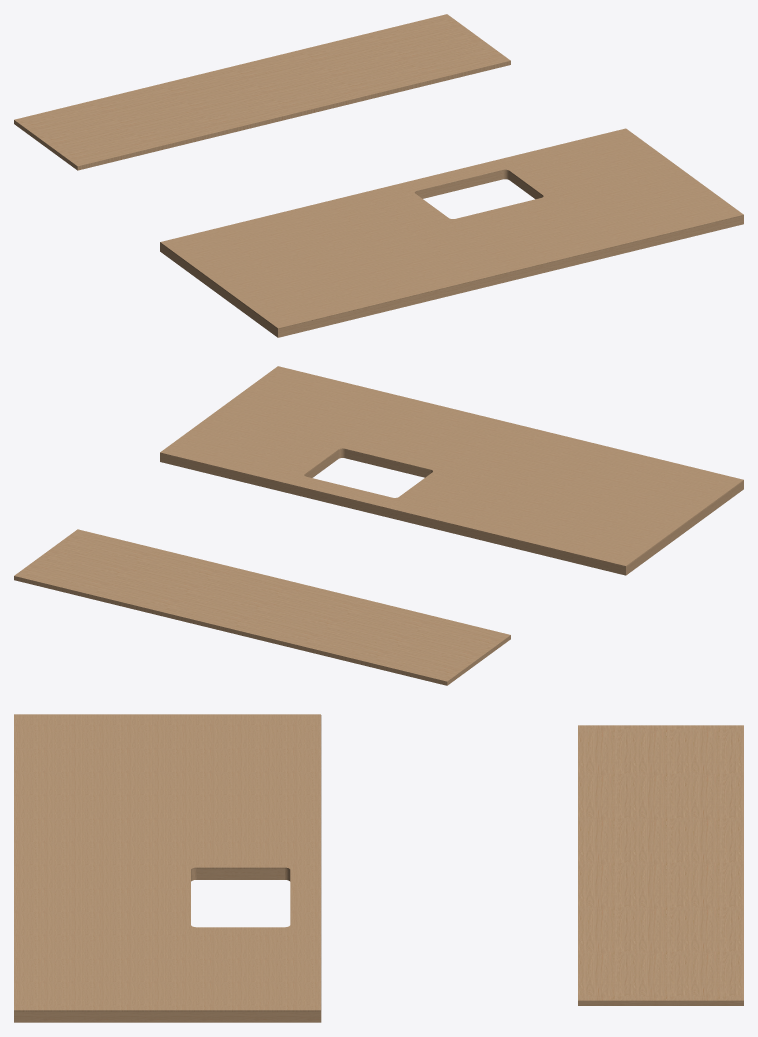
Rendered from CounterTopWood.glb.
The picture shows the model from 3 angles, top to bottom: view 1: azimuth 30°, elevation 25°; view 2: azimuth 150°, elevation 25°; view 3: azimuth 270°, elevation 25°; orthographic projection. The views are drawn at different scales.
Visible parts, largest first — view 1: Counter Wood; view 2: Counter Wood; view 3: Counter Wood.
Boxes of the visible parts, <box> form: Counter Wood: <box>14,14,743,337</box>; Counter Wood: <box>14,366,743,685</box>; Counter Wood: <box>14,714,743,1022</box>.
Size of the model in its own units: 1.14 by 0.0222 by 1.19.
1 material, 1 textured.
